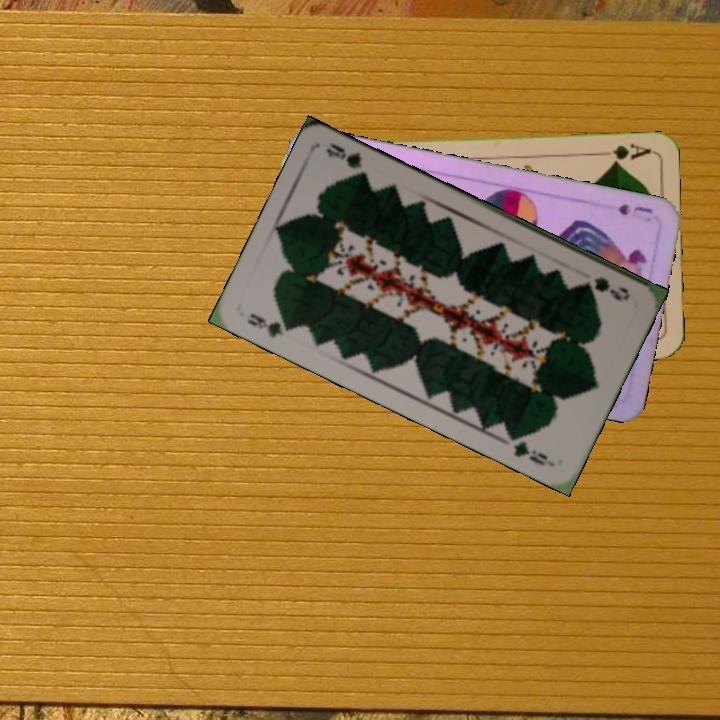G9: (578, 272, 633, 304), (243, 309, 298, 341)
GA: (594, 139, 653, 167)
SU: (614, 199, 656, 225)
